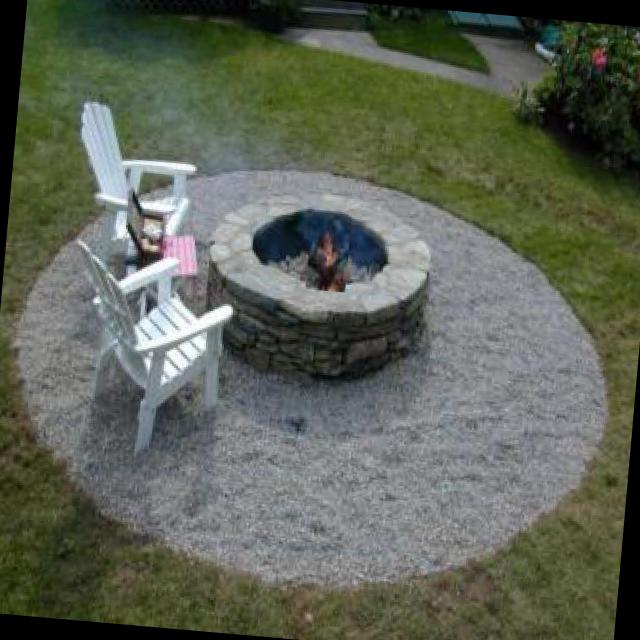fire: (304, 211, 352, 292)
